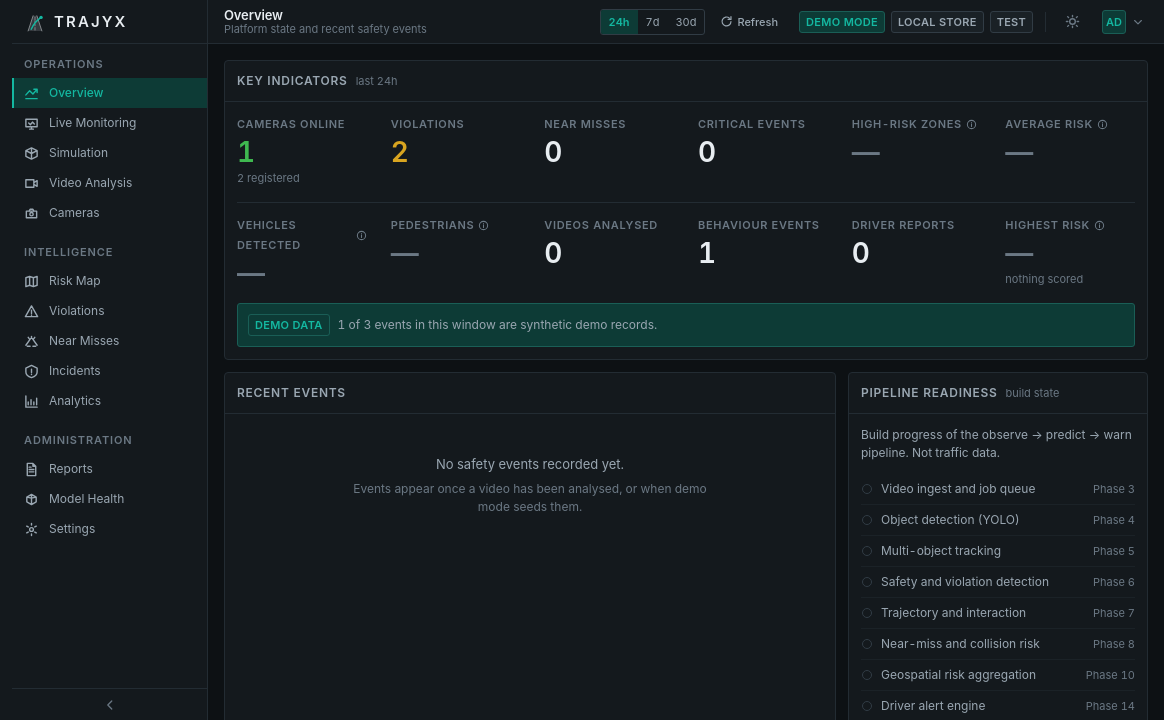
Scenario: profile menu › closes on Escape
Step 1. Click the button with aria-label "account menu" → (1123,22), box left=1098, top=8, right=1148, bottom=36
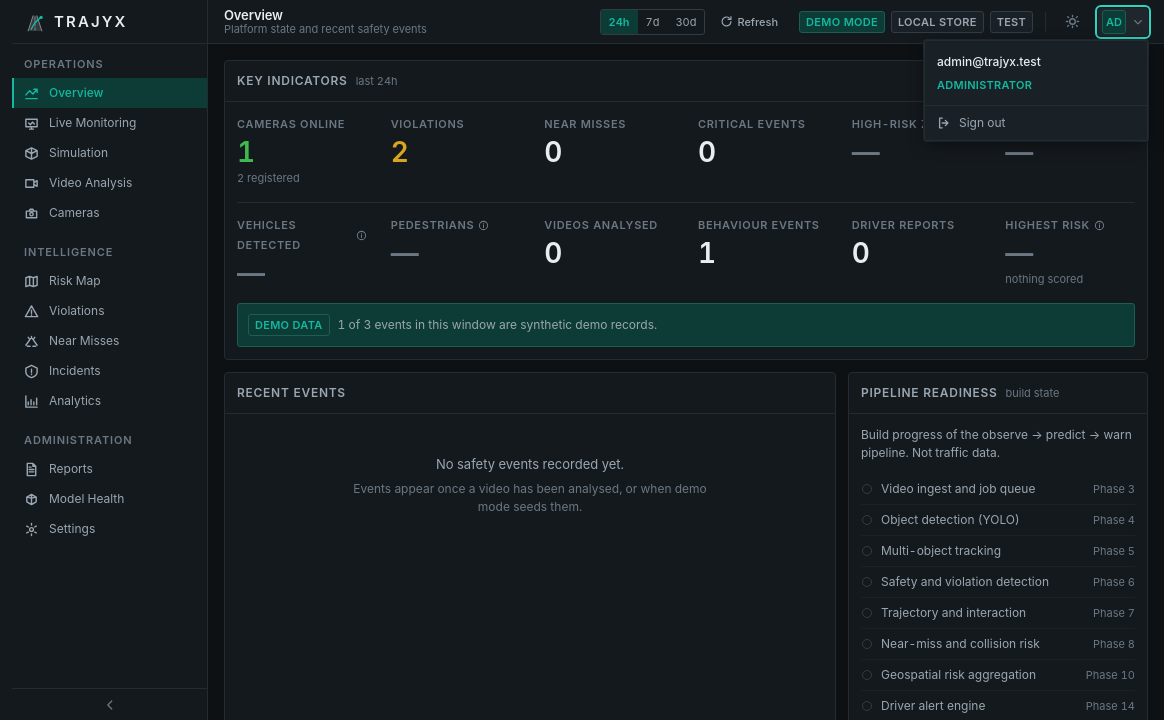
Expected: the menu is shown, left=924, top=40, right=1148, bottom=140
Step 2. Press Escape
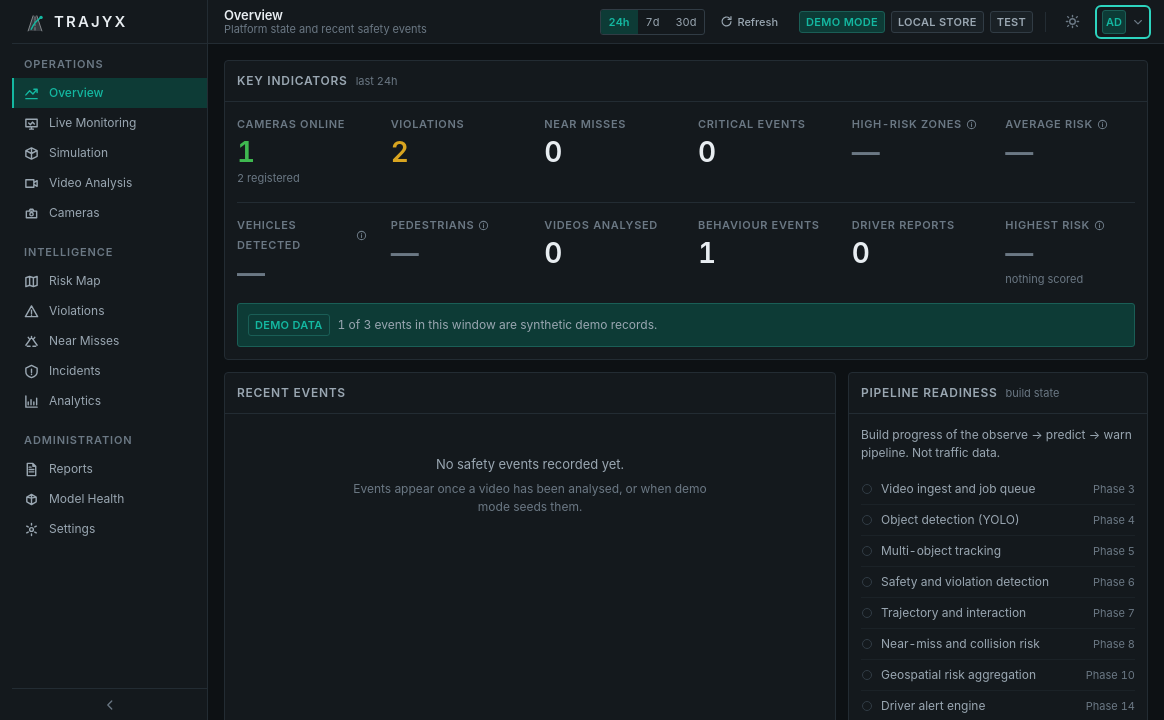
Expected: the menu is gone
